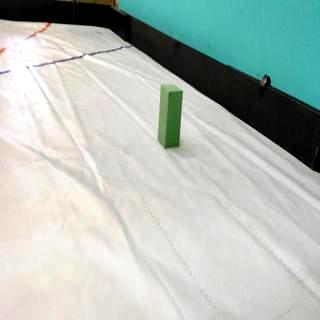greenbox: (156, 84, 183, 150)
